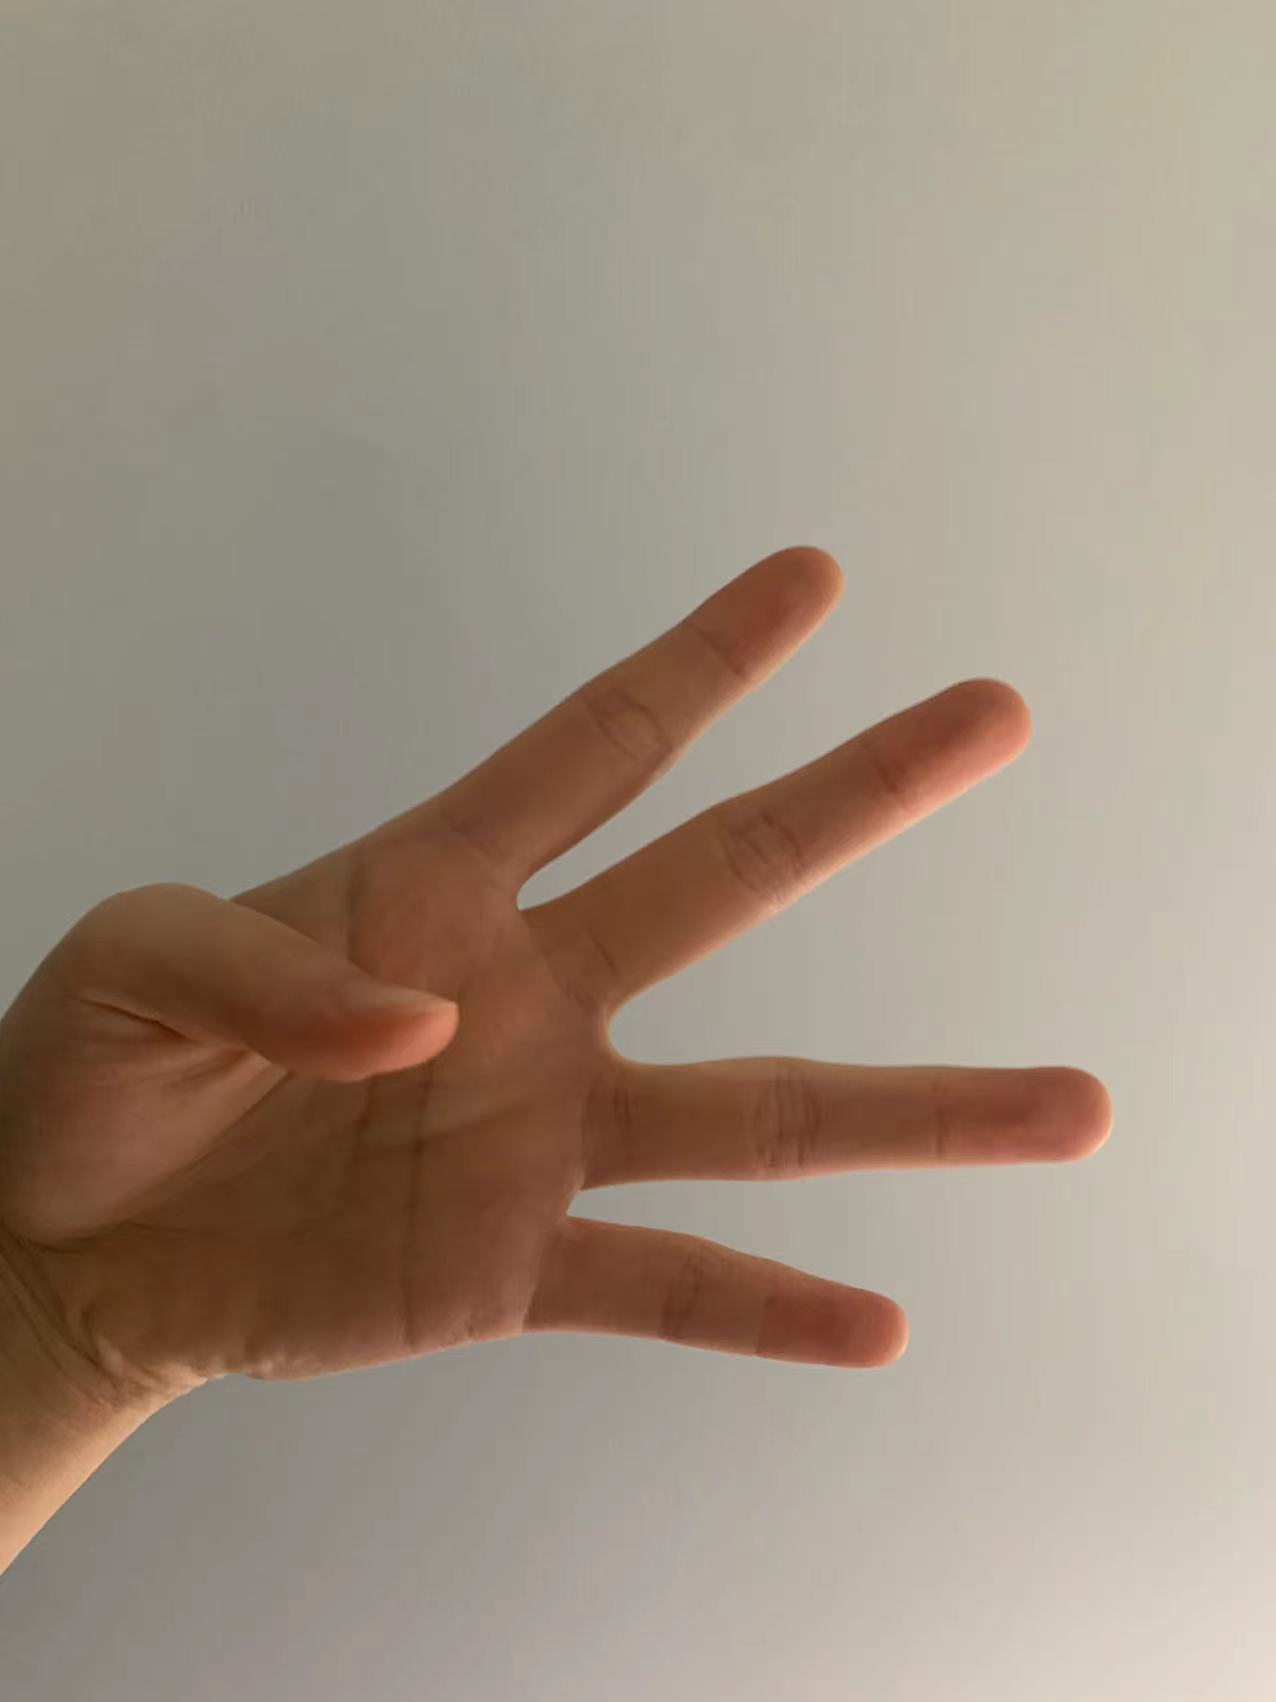right: (27, 537, 1138, 1402)
